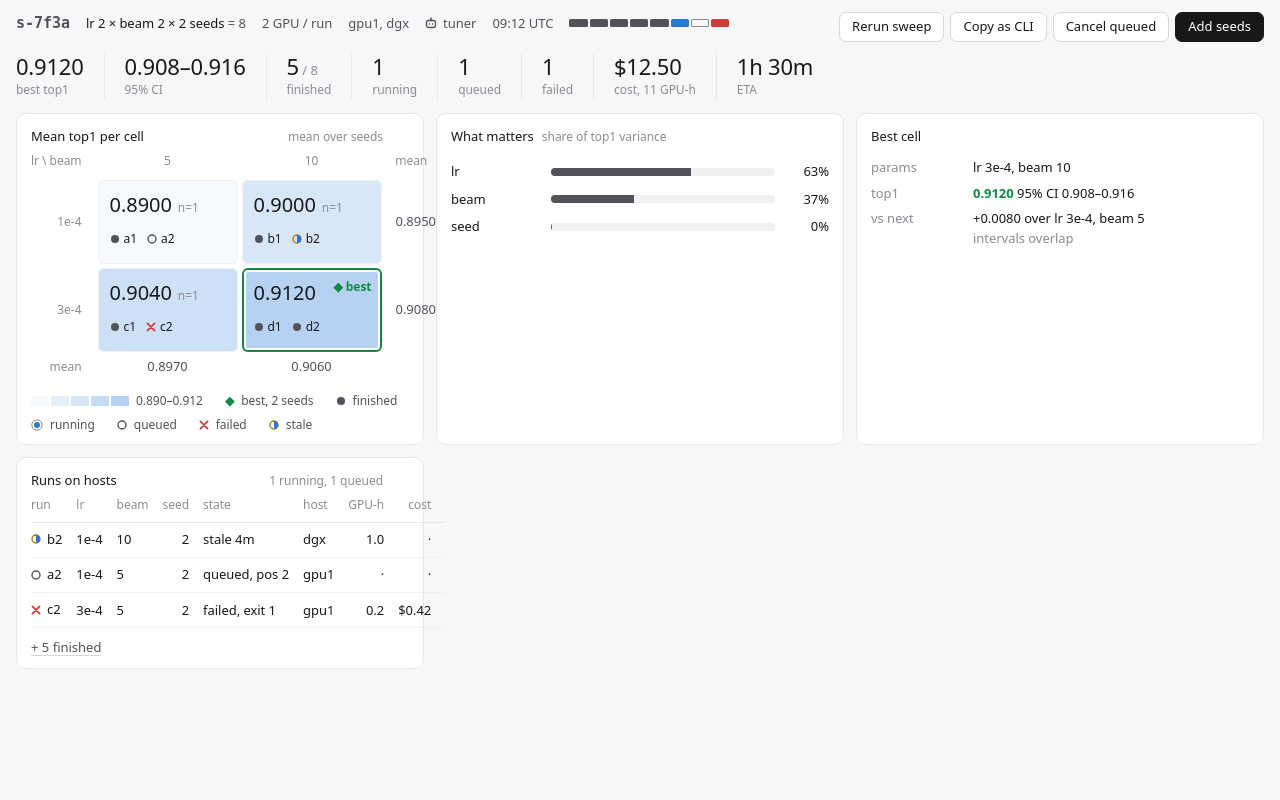
Rerun sweep › reopened after runs started elsewhere, it reads the history again instead of its cache
Click the button "Rerun sweep".
click(892, 27)  # box [839,12,944,42]
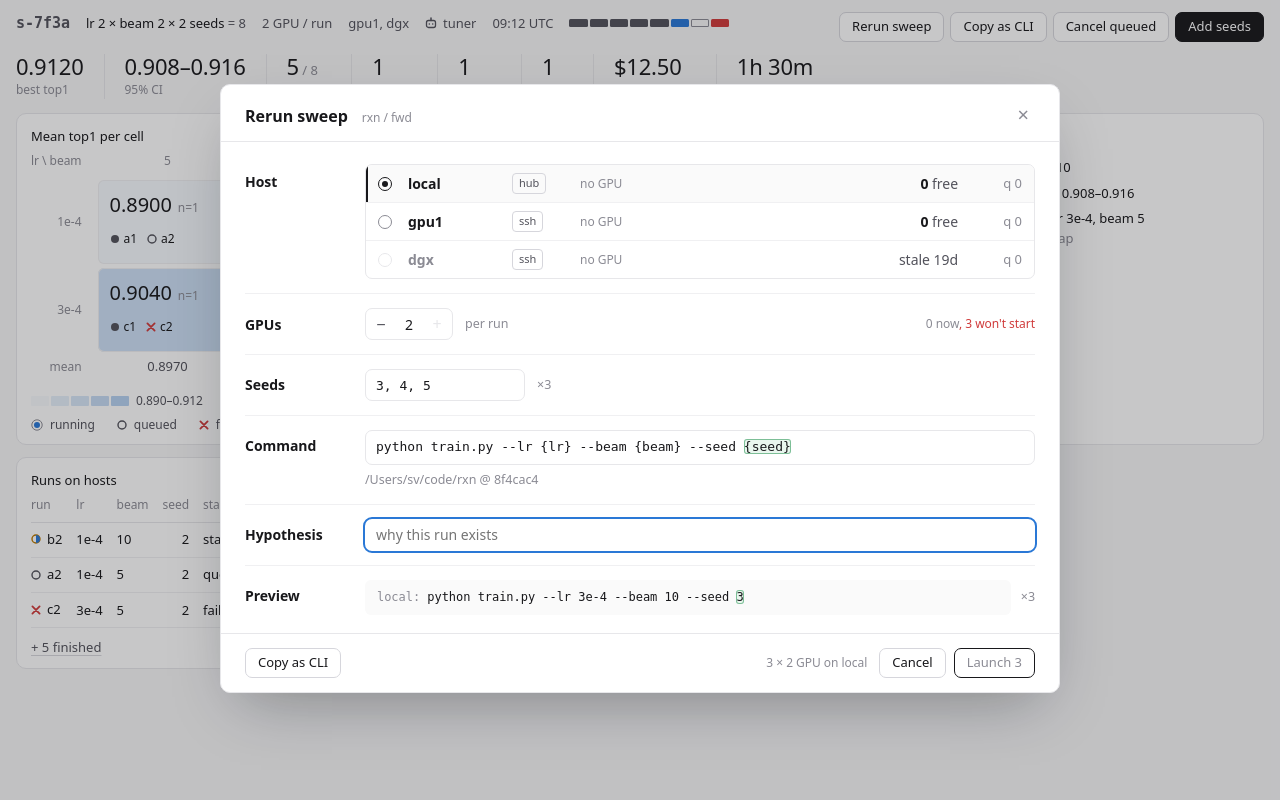
Now the text box labelled "Command" is shown, box [366,431,1034,464]
Now the radio button labelled "local" is checked, box [378,176,392,190]
Now the field labelled "Seeds" holds "3, 4, 5", box [365,369,525,401]
Click the button named "Close".
click(1023, 115)  # box [1012,103,1035,127]
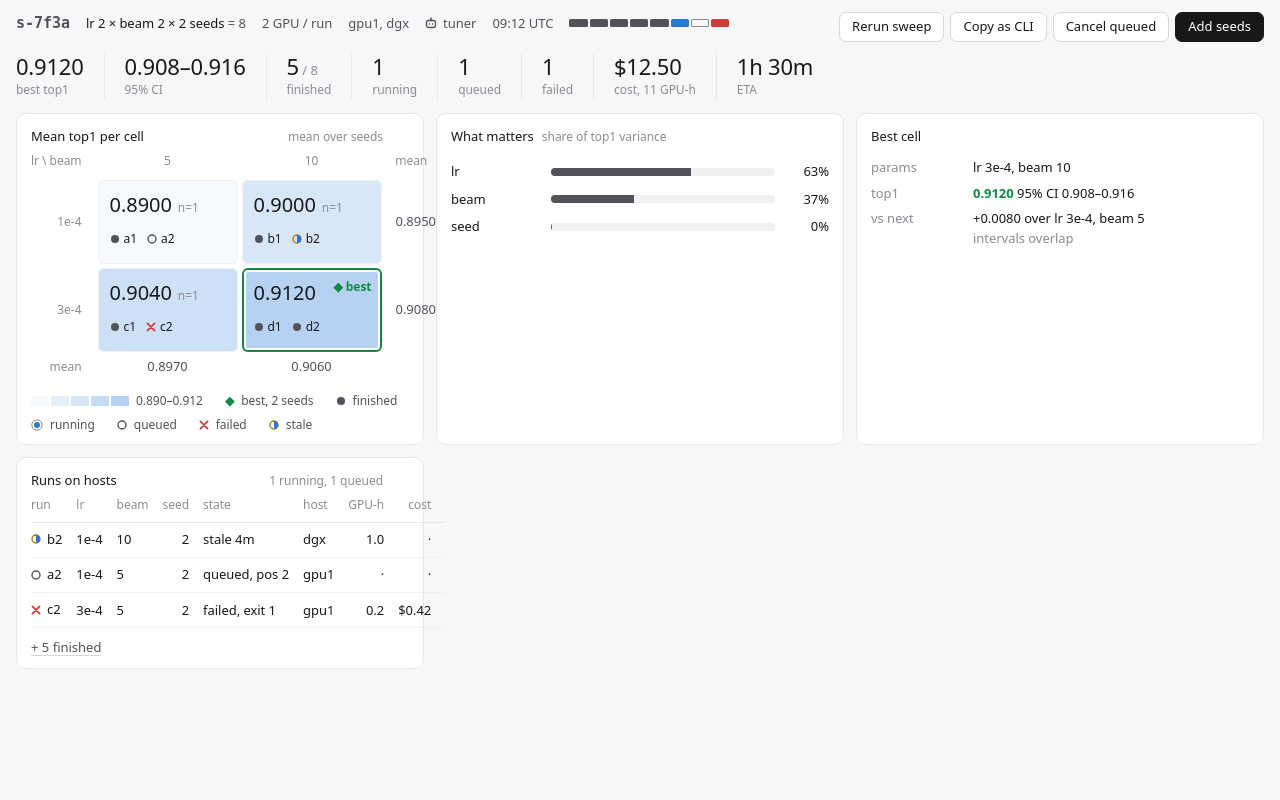
Click the button "Rerun sweep".
click(892, 27)  # box [839,12,944,42]
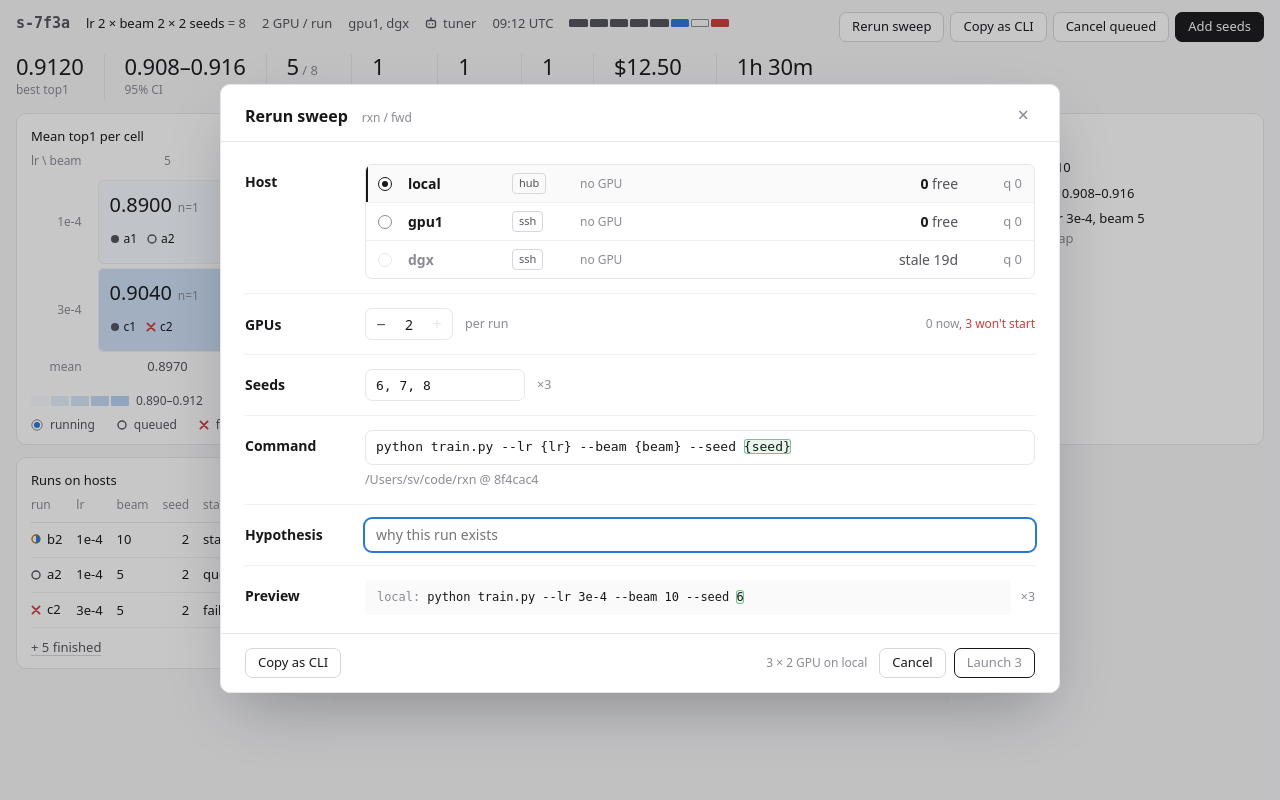
Now the text box labelled "Command" is shown, box [366,431,1034,464]
Now the radio button labelled "local" is checked, box [378,176,392,190]
Now the field labelled "Seeds" holds "6, 7, 8", box [365,369,525,401]
